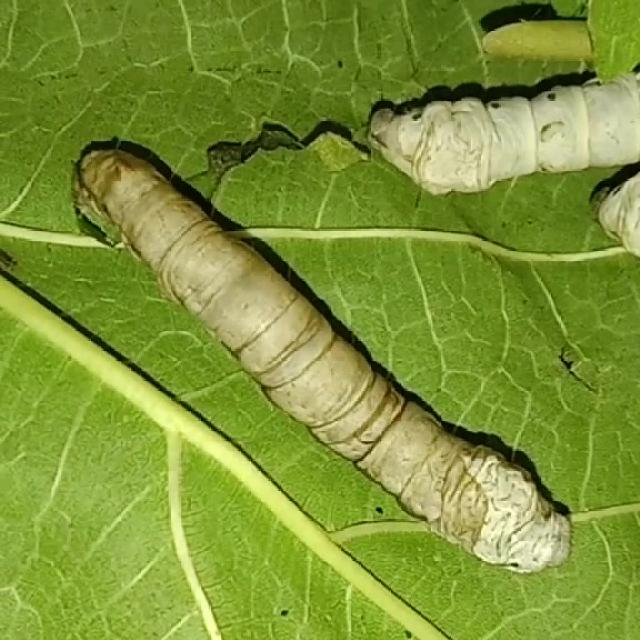Grasserie: (62, 118, 585, 596)
